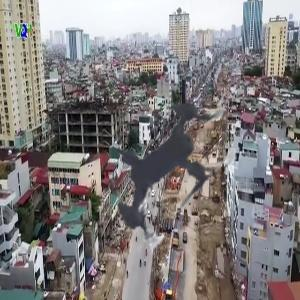drone: (48, 42, 290, 284)
